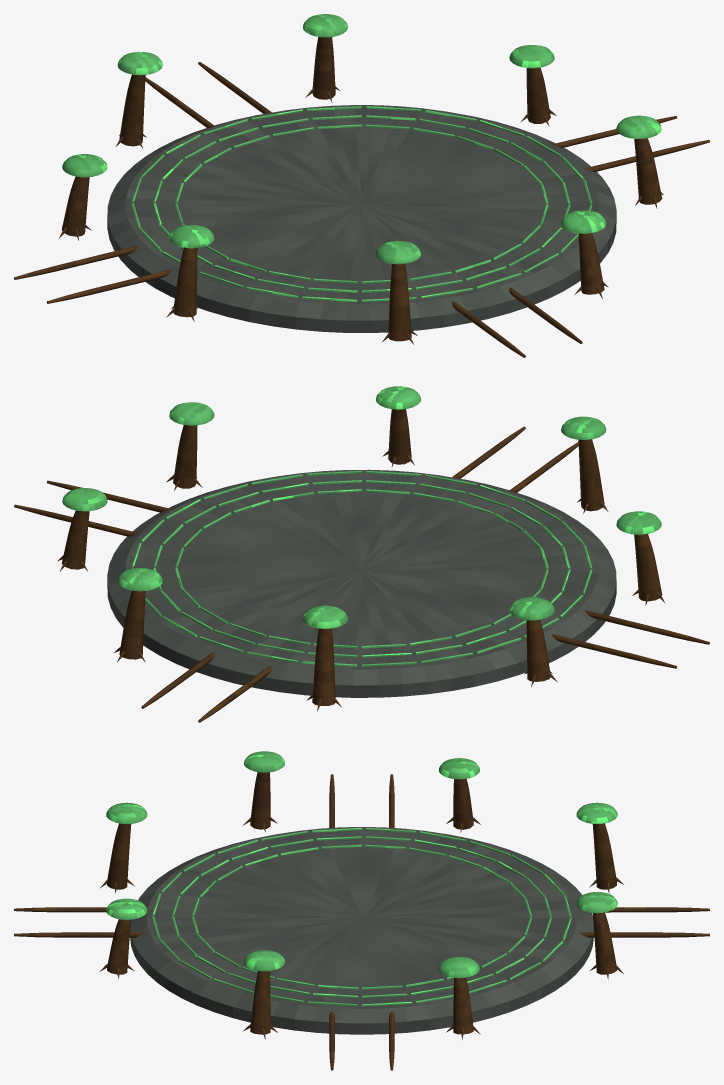
The model's file is underworld-boss-arena-first-bloom.glb.
The picture shows the model from 3 angles, top to bottom: view 1: azimuth 30°, elevation 25°; view 2: azimuth 150°, elevation 25°; view 3: azimuth 270°, elevation 25°; orthographic projection. The views are drawn at different scales.
Visible parts, largest first — view 1: combat-foundation, floor-inlay-2, floor-inlay-1, floor-inlay-0, buttress-5, buttress-2, buttress-4, buttress-7, buttress-1, buttress-6, buttress-3, buttress-0 (+13 smaller); view 2: combat-foundation, floor-inlay-2, floor-inlay-1, floor-inlay-0, buttress-2, buttress-5, buttress-1, buttress-4, buttress-7, buttress-3, buttress-0, buttress-6 (+15 smaller); view 3: combat-foundation, floor-inlay-2, floor-inlay-1, floor-inlay-0, buttress-2, buttress-5, buttress-7, buttress-1, buttress-4, buttress-0, buttress-6, buttress-3 (+12 smaller).
Boxes of the visible parts, box(x1,y1,x2,y2) form: combat-foundation: box(107, 105, 616, 332); floor-inlay-2: box(131, 106, 592, 301); floor-inlay-1: box(153, 115, 570, 292); floor-inlay-0: box(175, 124, 548, 283); buttress-5: box(388, 264, 411, 341); buttress-2: box(119, 74, 145, 146); buttress-4: box(173, 247, 197, 317); buttress-7: box(634, 138, 662, 204); buttress-1: box(312, 37, 335, 99); buttress-6: box(578, 233, 604, 294); buttress-3: box(61, 176, 89, 236); buttress-0: box(526, 67, 550, 123); combat-foundation: box(107, 469, 616, 697); floor-inlay-2: box(131, 470, 592, 666); floor-inlay-1: box(153, 480, 570, 657); floor-inlay-0: box(175, 489, 548, 648); buttress-2: box(312, 628, 335, 705); buttress-5: box(578, 439, 604, 511); buttress-1: box(119, 590, 145, 659); buttress-4: box(634, 534, 662, 601); buttress-7: box(173, 425, 197, 488); buttress-3: box(526, 620, 550, 681); buttress-0: box(61, 510, 89, 569); buttress-6: box(388, 409, 411, 464); combat-foundation: box(130, 827, 593, 1034); floor-inlay-2: box(152, 827, 571, 1006); floor-inlay-1: box(172, 836, 551, 997); floor-inlay-0: box(192, 844, 531, 989); buttress-2: box(592, 823, 616, 889); buttress-5: box(107, 823, 131, 889); buttress-7: box(250, 971, 270, 1034); buttress-1: box(592, 912, 616, 974); buttress-4: box(250, 772, 270, 829); buttress-0: box(453, 977, 473, 1034); buttress-6: box(107, 919, 130, 974); buttress-3: box(453, 779, 473, 829).
Size of the model in its own units: 42 by 5.9 by 42.
3 materials, 3 textured.
